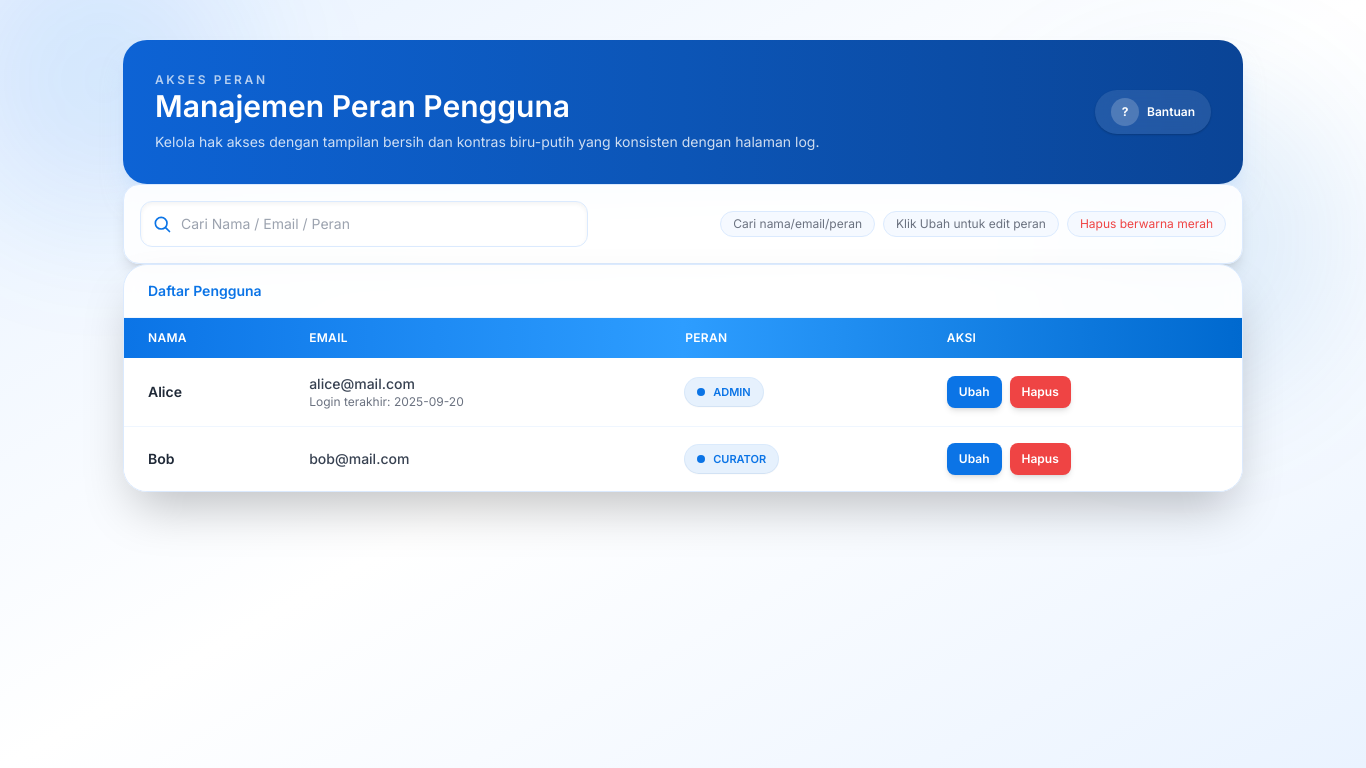
Scenario: opens role modal and saves role (PUT ok)
expect the text "Bob" is shown: met, box [148,450,174,467]
Click the button "Ubah" in the row of "bob@mail.com".
click(974, 459)  # box [947,443,1002,475]
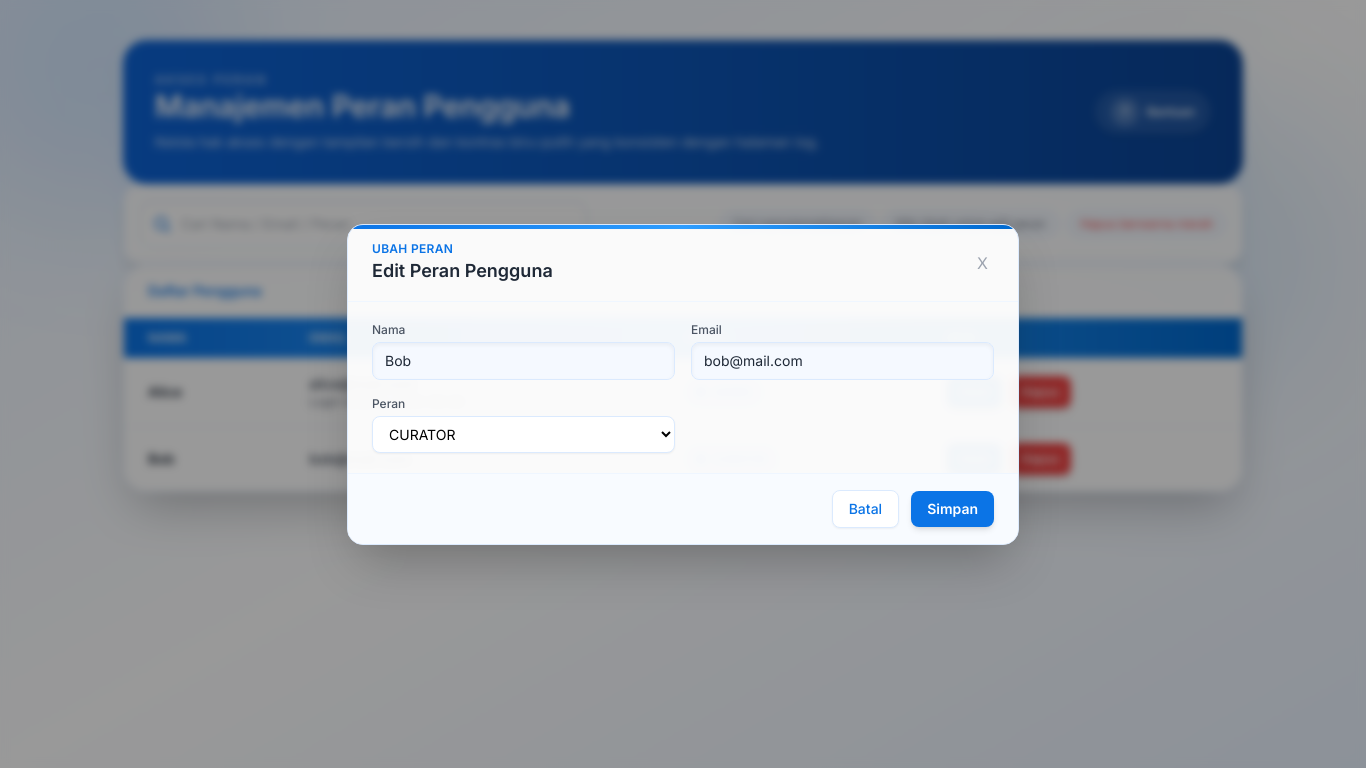
expect the heading "Edit Peran Pengguna" is shown: met, box [372,256,553,284]
Select "EXP_USER" in the dropdown labelled "Peran" at (524, 434), box [372,416,675,452]
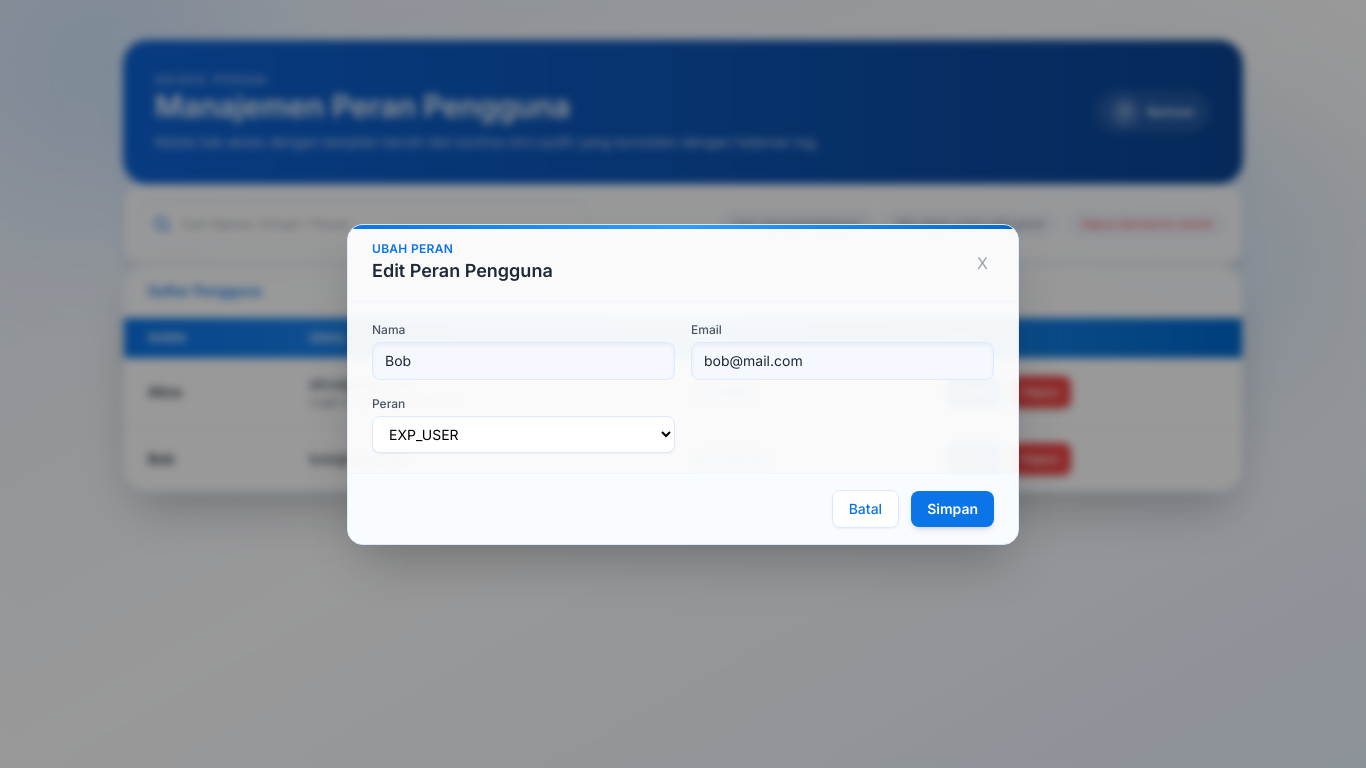
Click the button "Simpan".
click(953, 508)  # box [911,490,994,526]
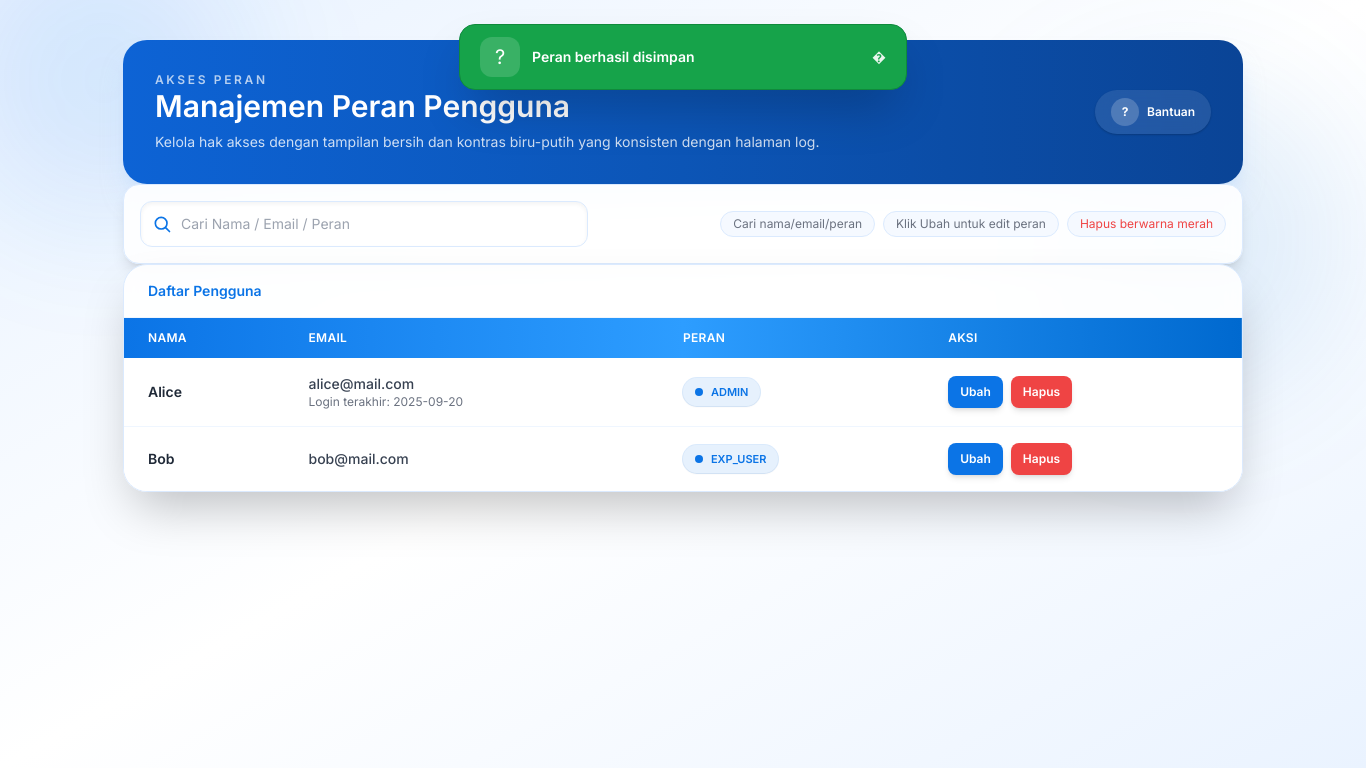
expect the heading "Edit Peran Pengguna" is gone: met
